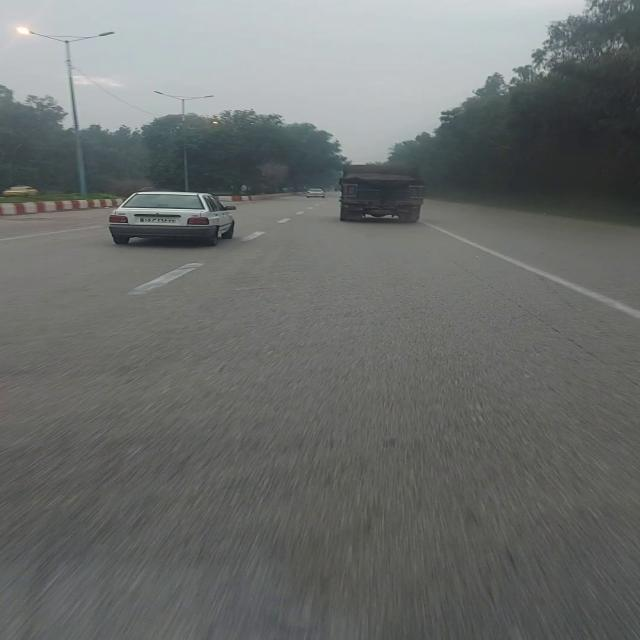Car: (103, 186, 243, 248)
Truck: (328, 162, 436, 229)
